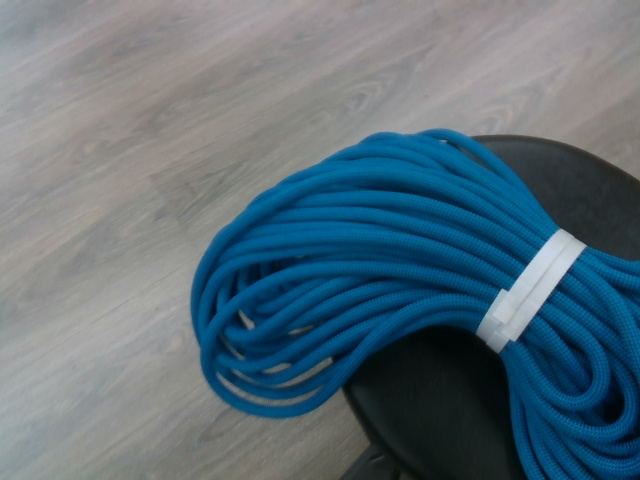rope: (182, 120, 640, 480)
